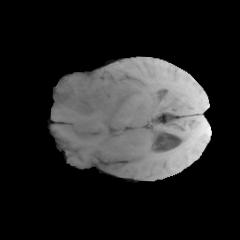glioma: (54, 69, 143, 133)
